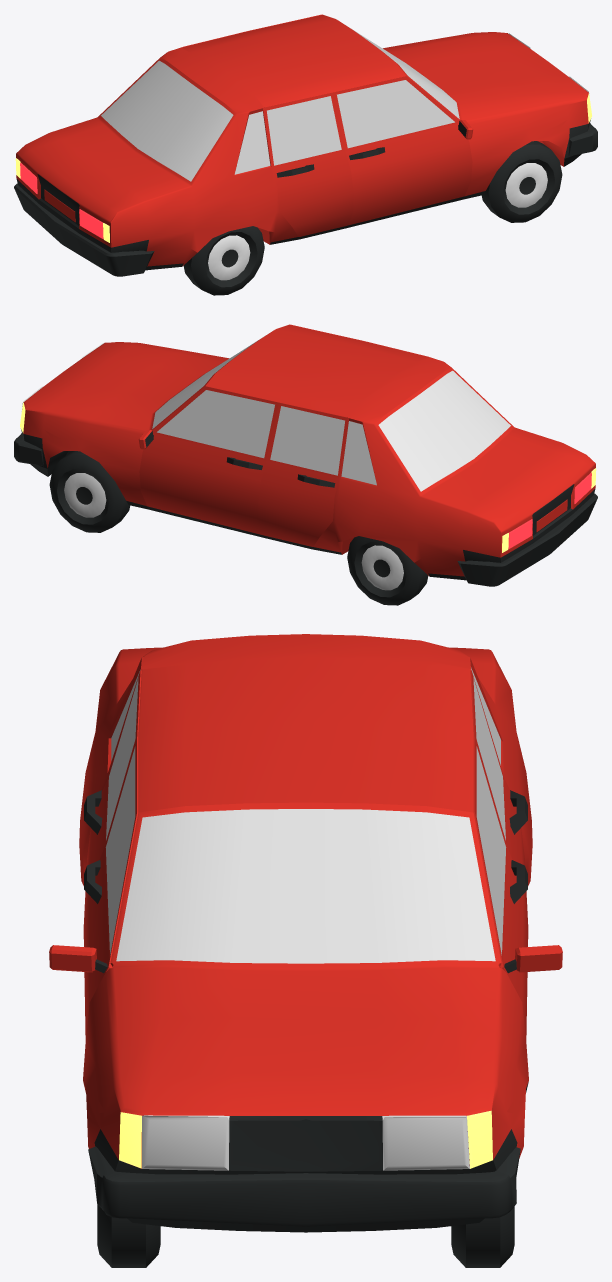
File: Low_Poly_Car.fbx
The picture shows the model from 3 angles, top to bottom: view 1: azimuth 30°, elevation 25°; view 2: azimuth 150°, elevation 25°; view 3: azimuth 270°, elevation 25°; orthographic projection. The views are drawn at different scales.
Visible parts, largest first — view 1: car, front_right_door, back_right_door, front_right_wheel, back_left_wheel; view 2: car, front_left_door, back_left_door, front_left_wheel, back_left_wheel.; view 3: car, front_left_door, front_right_door, back_left_door, back_right_door, front_right_wheel, front_left_wheel.
Part boxes in pixels (x1,y1,x2,y2): car: (14, 15, 597, 276); front_right_door: (333, 76, 473, 227); back_right_door: (264, 92, 353, 239); front_right_wheel: (481, 141, 562, 222); back_left_wheel: (183, 226, 264, 295); car: (14, 325, 597, 586); front_left_door: (138, 386, 278, 537); back_left_door: (258, 402, 347, 549); front_left_wheel: (49, 451, 130, 532); back_left_wheel.: (347, 536, 428, 605); car: (79, 634, 532, 1232); front_left_door: (473, 737, 562, 1040); front_right_door: (49, 737, 138, 1040); back_left_door: (470, 670, 528, 925); back_right_door: (83, 670, 141, 925); front_right_wheel: (97, 1204, 160, 1267); front_left_wheel: (451, 1206, 514, 1267).
Size of the model in its own units: 424 by 143 by 187.
